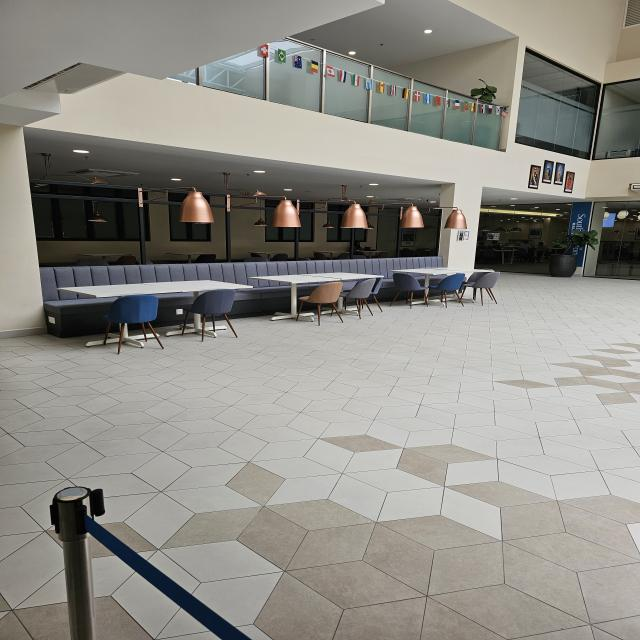footpath: (260, 361, 638, 636)
obstacle: (25, 485, 257, 640), (65, 272, 252, 352), (256, 267, 388, 321)
